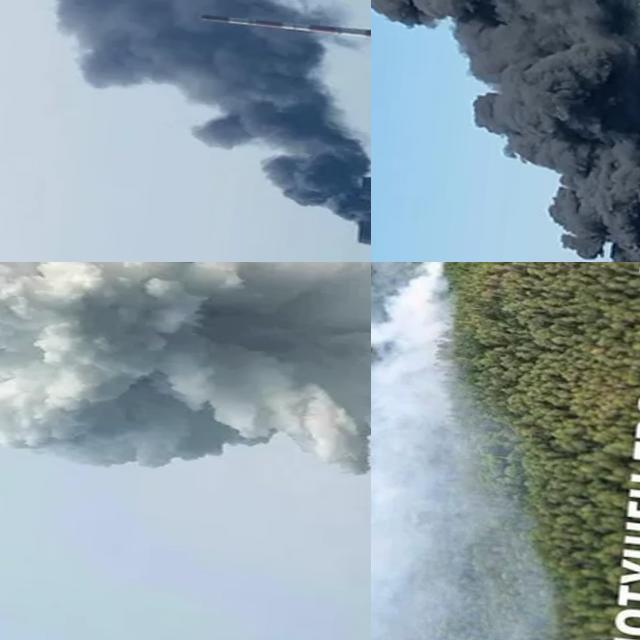smoke: (0, 262, 371, 501), (0, 0, 371, 227), (371, 0, 640, 262), (371, 262, 469, 640)
